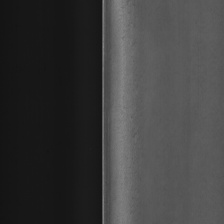silk_spot: (110, 11, 142, 207)
